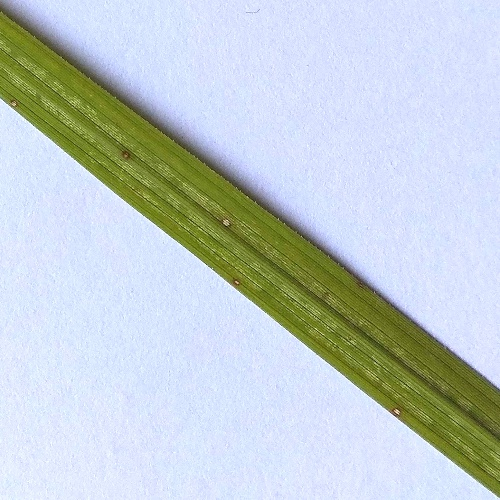Busuk Leher: (387, 404, 409, 420), (121, 145, 138, 163), (220, 216, 238, 233), (231, 274, 246, 291), (7, 96, 22, 110)
